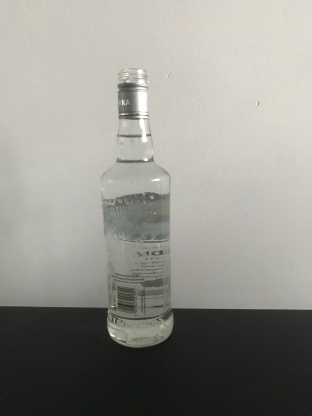nakretka: (115, 65, 151, 120)
